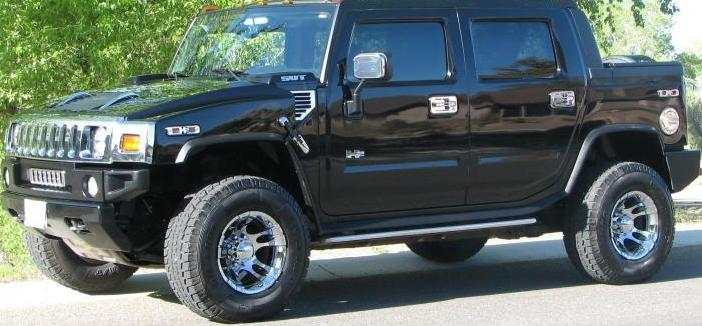front_view: (6, 107, 169, 257)
headlight: (87, 109, 173, 188)
side_glass: (320, 7, 564, 91)
